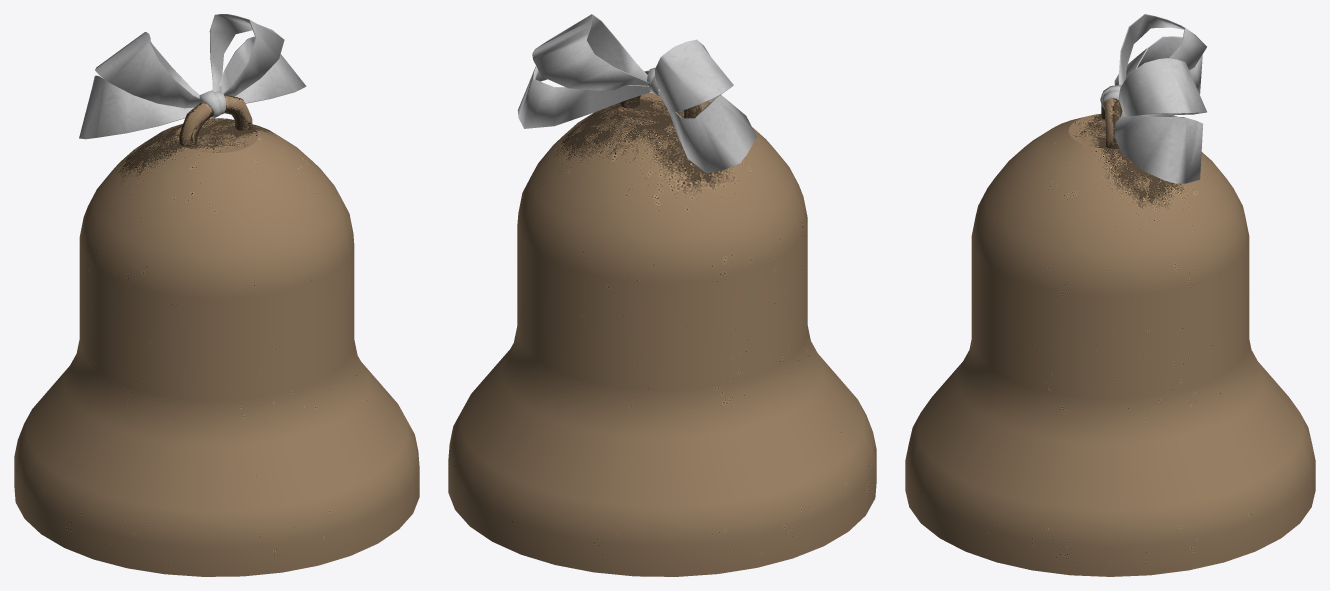
The model's file is bell.fbx.
The picture shows the model from 3 angles, left to right: view 1: azimuth 30°, elevation 25°; view 2: azimuth 150°, elevation 25°; view 3: azimuth 270°, elevation 25°; orthographic projection. The views are drawn at different scales.
Visible parts, largest first — view 1: bell.lod0; view 2: bell.lod0; view 3: bell.lod0.
Part boxes in pixels (left/top/right/bottom): bell.lod0: left=14, top=14, right=419, bottom=576; bell.lod0: left=448, top=14, right=876, bottom=576; bell.lod0: left=905, top=14, right=1315, bottom=576.
Size of what is drawn, in the model's own units: 200 by 249 by 200.
